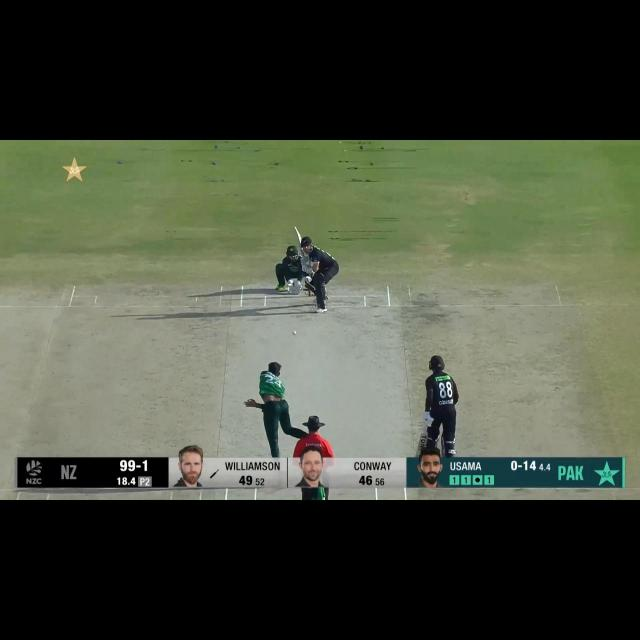bat: (414, 432, 430, 458), (292, 226, 304, 247)
toe: (292, 225, 301, 234)
